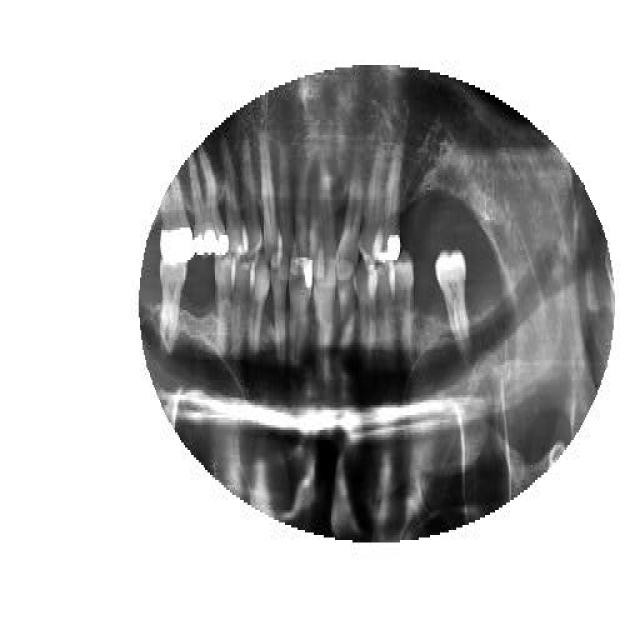Fillings: (189, 148, 229, 258), (378, 138, 404, 260), (161, 180, 195, 268)
